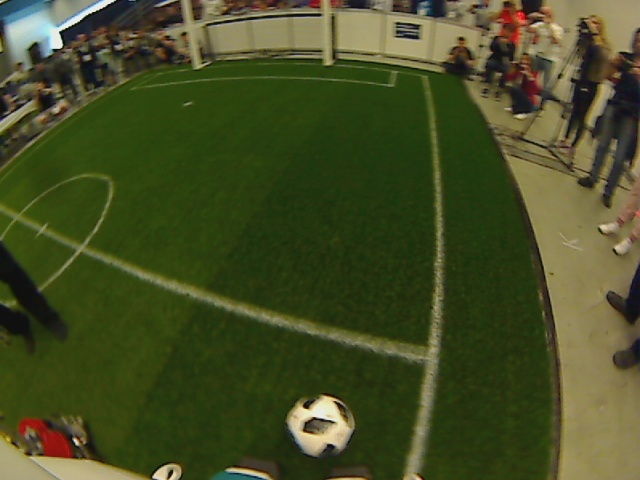ball: (287, 392, 355, 461)
